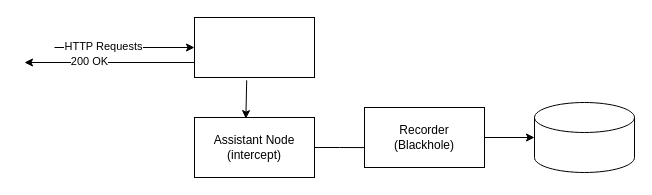
This 652x195 diagram has some shape labels left out. Here are the shapes that lost their labels. From the top down, the centre of each, then its label:
At [254,47]: "Real Production App (tcpcopy runs here)".
At [584,137]: "Archive".
